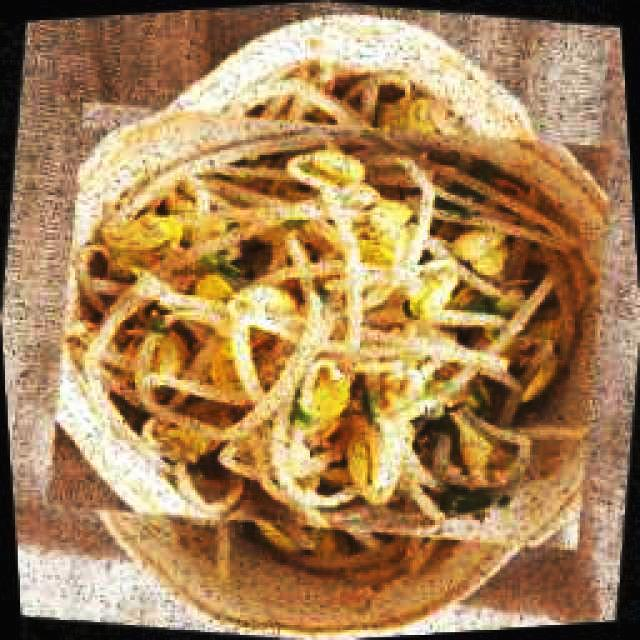mung_bean_sprouts: (97, 143, 585, 528)
